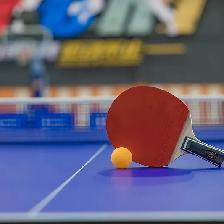YellowBall: (110, 146, 132, 168)
